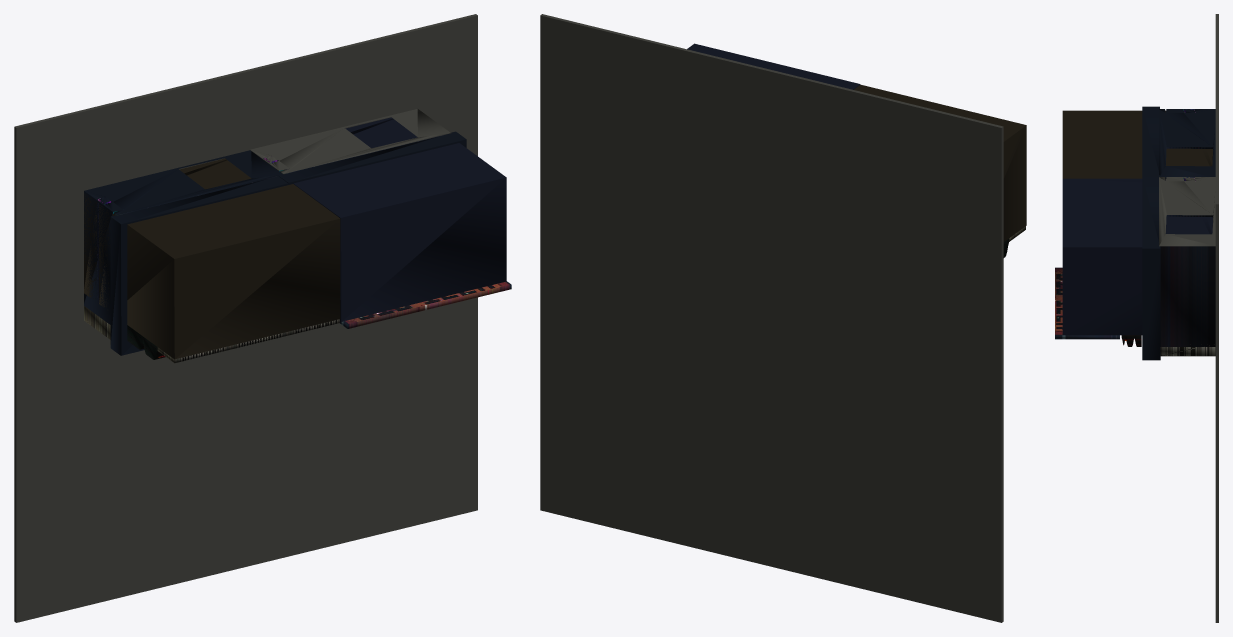
Rendered from clinic.fbx.
3 renders of one model, left to right at view 1: azimuth 30°, elevation 25°; view 2: azimuth 150°, elevation 25°; view 3: azimuth 270°, elevation 25°, orthographic. The views are drawn at different scales.
Visible parts, largest first — view 1: blackclinic2; view 2: blackclinic2; view 3: blackclinic2.
Boxes of the visible parts, bbox=[...] form: blackclinic2: bbox=[14, 14, 511, 622]; blackclinic2: bbox=[540, 14, 1026, 622]; blackclinic2: bbox=[1055, 14, 1218, 622].
Bounding box in the file's own units: 16310 × 16714 × 5928.
